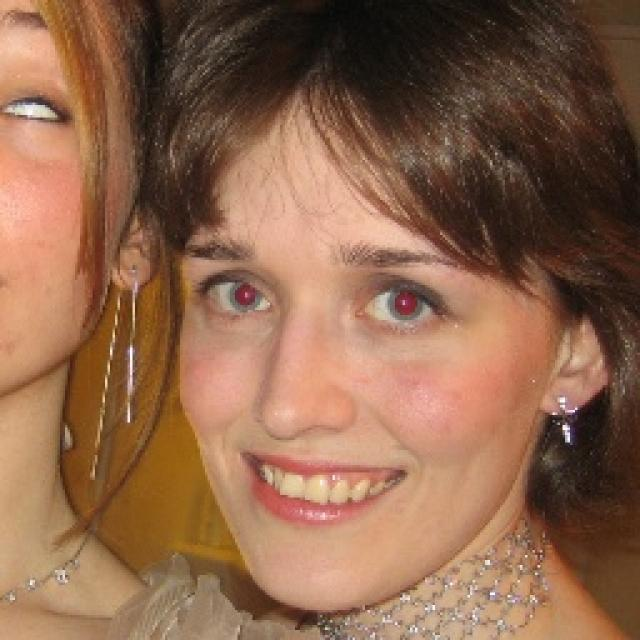earlobe: (540, 370, 603, 416), (111, 238, 157, 294)
eye: (351, 279, 451, 329), (203, 271, 274, 319), (0, 97, 74, 126)
nose: (257, 423, 349, 453)
wholeear: (541, 307, 607, 413)
